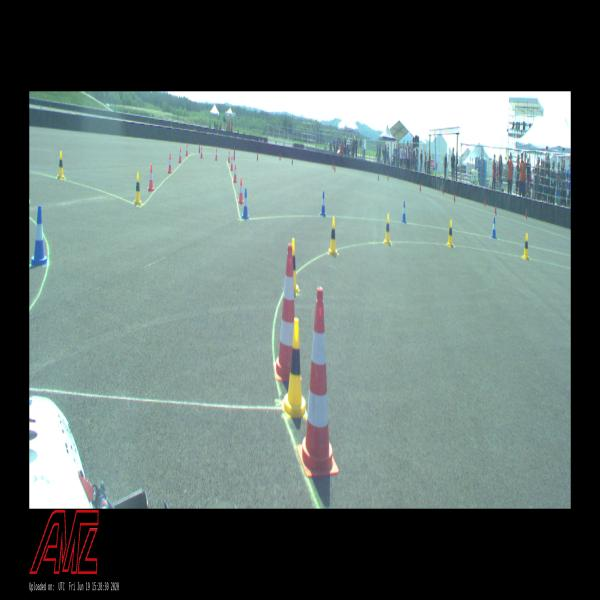blue_cone: (31, 206, 47, 266), (242, 188, 249, 220), (320, 191, 326, 216), (491, 216, 497, 240), (401, 201, 406, 223)
large_orange_cone: (296, 286, 339, 479), (273, 245, 302, 382)
orange_cone: (238, 177, 244, 205), (148, 164, 154, 192), (168, 153, 172, 173), (233, 164, 237, 182), (230, 156, 234, 171), (179, 147, 182, 163), (215, 148, 218, 161), (186, 144, 188, 157), (201, 146, 203, 159), (228, 151, 230, 162)
unknown_cone: (494, 203, 497, 214), (453, 192, 456, 203), (525, 208, 527, 219), (484, 196, 486, 206), (442, 186, 444, 195), (387, 172, 389, 181), (334, 164, 336, 172), (279, 152, 281, 160), (332, 163, 334, 170), (420, 182, 421, 192), (199, 143, 200, 153), (234, 150, 235, 160), (378, 174, 379, 182), (292, 157, 293, 165), (257, 152, 258, 160)
yellow_cone: (283, 314, 308, 418), (286, 238, 300, 292), (329, 216, 338, 256), (134, 172, 142, 206), (57, 150, 65, 178), (384, 213, 391, 245), (522, 233, 530, 261), (447, 220, 453, 248)
